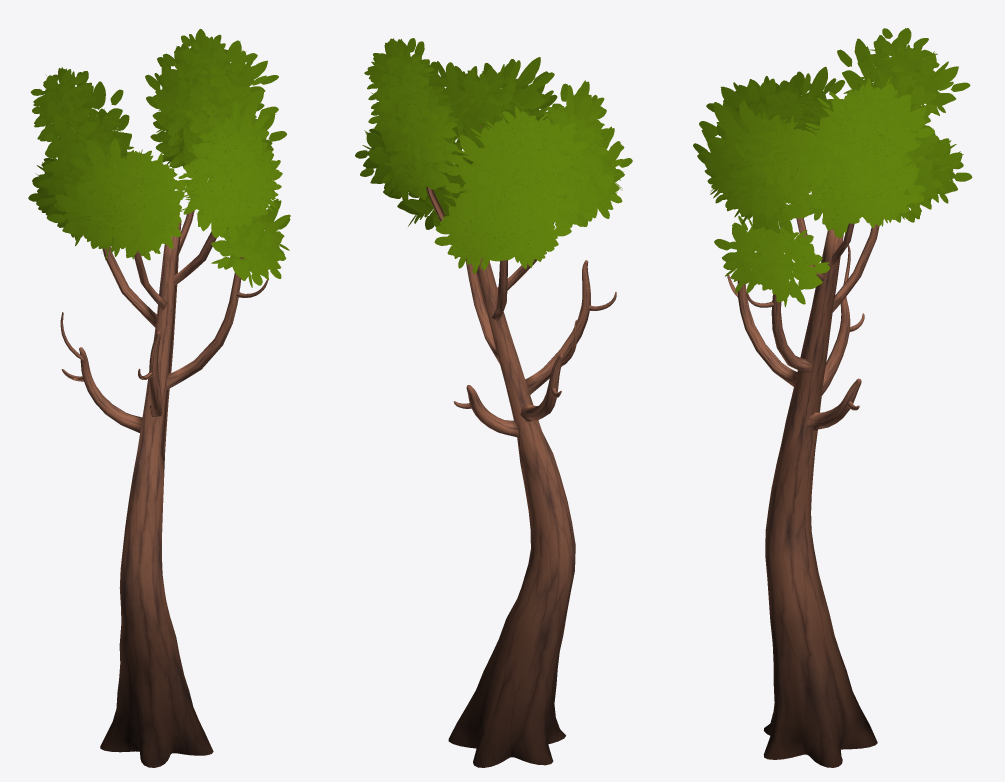
Rendered from CommonTree_4.glb.
3 renders of one model, left to right at view 1: azimuth 30°, elevation 25°; view 2: azimuth 150°, elevation 25°; view 3: azimuth 270°, elevation 25°, orthographic. The views are drawn at different scales.
Visible parts, largest first — view 1: CommonTree_4; view 2: CommonTree_4; view 3: CommonTree_4.
Boxes of the visible parts, x1,y1,x2,y2 form: CommonTree_4: [28, 29, 290, 767]; CommonTree_4: [355, 38, 632, 767]; CommonTree_4: [693, 28, 972, 767].
Size of the model in its own units: 3.83 by 9.44 by 3.76.
2 materials, 2 textured.
